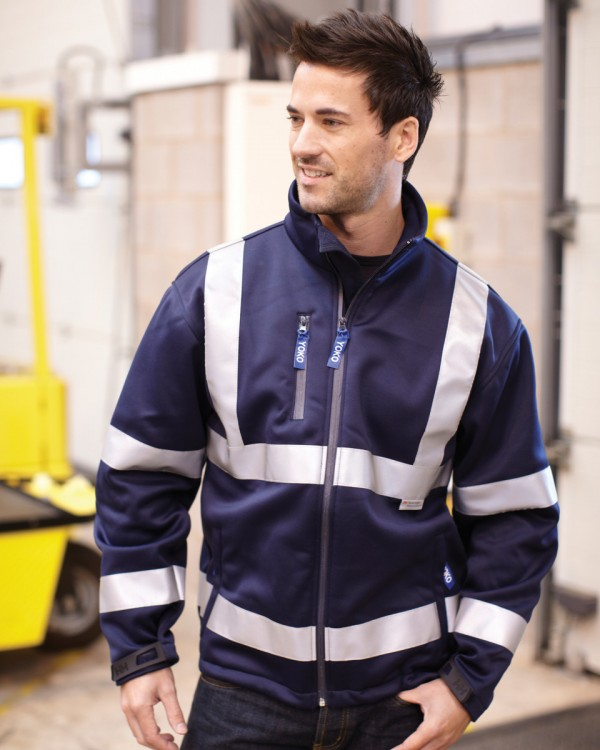noepi: (83, 15, 565, 750)
